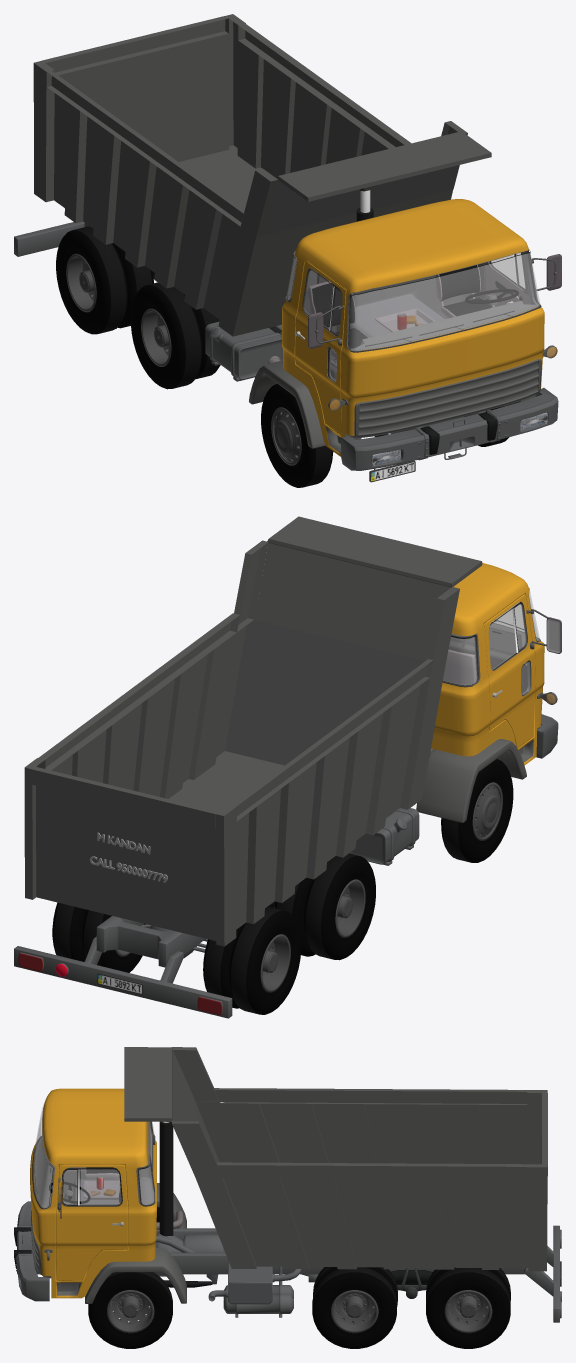
The model's file is truck.glb.
3 renders of one model, top to bottom at view 1: azimuth 30°, elevation 25°; view 2: azimuth 150°, elevation 25°; view 3: azimuth 270°, elevation 25°, orthographic. The views are drawn at different scales.
Visible parts, largest first — view 1: Cube.001, cab.001, windows.001, base_frame.001, cab_interior.001, left_rear_wheel_1.004, left_rear_wheel_1.003, right_front_wheel.001, right_drivers_window.001, right_rear_wheel_2.001, right_middle_wheel_2.001, baking_tray.001; view 2: Cube.001, cab.001, base_frame.001, left_rear_wheel_1.003, left_rear_wheel_1.004, right_front_wheel.001, cab_interior.001, windows.001, left_rear_wheel_1.001, right_rear_wheel_2.001, left_rear_wheel_2.001, right_drivers_window.001 (+1 smaller); view 3: Cube.001, cab.001, base_frame.001, left_rear_wheel_1.001, left_rear_wheel_1.005, left_rear_wheel_1.002, cab_interior.001, windows.001, Cylinder.001, left_drivers_windows.001, baking_tray.001, left_middle_wheel_2.001 (+1 smaller).
Part boxes in pixels (left/top/right/bottom): Cube.001: left=33, top=14, right=491, bottom=336; cab.001: left=249, top=199, right=557, bottom=456; windows.001: left=286, top=251, right=541, bottom=381; base_frame.001: left=14, top=221, right=558, bottom=470; cab_interior.001: left=285, top=249, right=539, bottom=382; left_rear_wheel_1.004: left=131, top=282, right=202, bottom=389; left_rear_wheel_1.003: left=56, top=226, right=128, bottom=334; right_front_wheel.001: left=261, top=383, right=333, bottom=487; right_drivers_window.001: left=303, top=269, right=332, bottom=328; right_rear_wheel_2.001: left=113, top=243, right=153, bottom=328; right_middle_wheel_2.001: left=194, top=308, right=220, bottom=379; baking_tray.001: left=375, top=308, right=435, bottom=332; Cube.001: left=24, top=516, right=482, bottom=946; cab.001: left=416, top=563, right=557, bottom=822; base_frame.001: left=14, top=714, right=558, bottom=1018; left_rear_wheel_1.003: left=229, top=907, right=301, bottom=1014; left_rear_wheel_1.004: left=304, top=853, right=375, bottom=960; right_front_wheel.001: left=441, top=759, right=513, bottom=862; cab_interior.001: left=443, top=588, right=539, bottom=696; windows.001: left=442, top=590, right=540, bottom=695; left_rear_wheel_1.001: left=52, top=902, right=86, bottom=961; right_rear_wheel_2.001: left=203, top=924, right=243, bottom=1008; left_rear_wheel_2.001: left=82, top=909, right=149, bottom=972; right_drivers_window.001: left=489, top=609, right=516, bottom=669; Cube.001: left=124, top=1047, right=547, bottom=1271; cab.001: left=30, top=1088, right=186, bottom=1303; base_frame.001: left=14, top=1201, right=561, bottom=1322; left_rear_wheel_1.001: left=426, top=1268, right=510, bottom=1348; left_rear_wheel_1.005: left=312, top=1267, right=396, bottom=1348; left_rear_wheel_1.002: left=88, top=1272, right=172, bottom=1348; cab_interior.001: left=34, top=1106, right=155, bottom=1208; windows.001: left=32, top=1102, right=155, bottom=1209; Cylinder.001: left=159, top=1121, right=173, bottom=1236; left_drivers_windows.001: left=81, top=1169, right=121, bottom=1204; baking_tray.001: left=83, top=1180, right=120, bottom=1199; left_middle_wheel_2.001: left=313, top=1267, right=397, bottom=1322.
Bounding box in the file's own units: 5.67 × 6.21 × 13.38.
100 materials, 49 textured.
